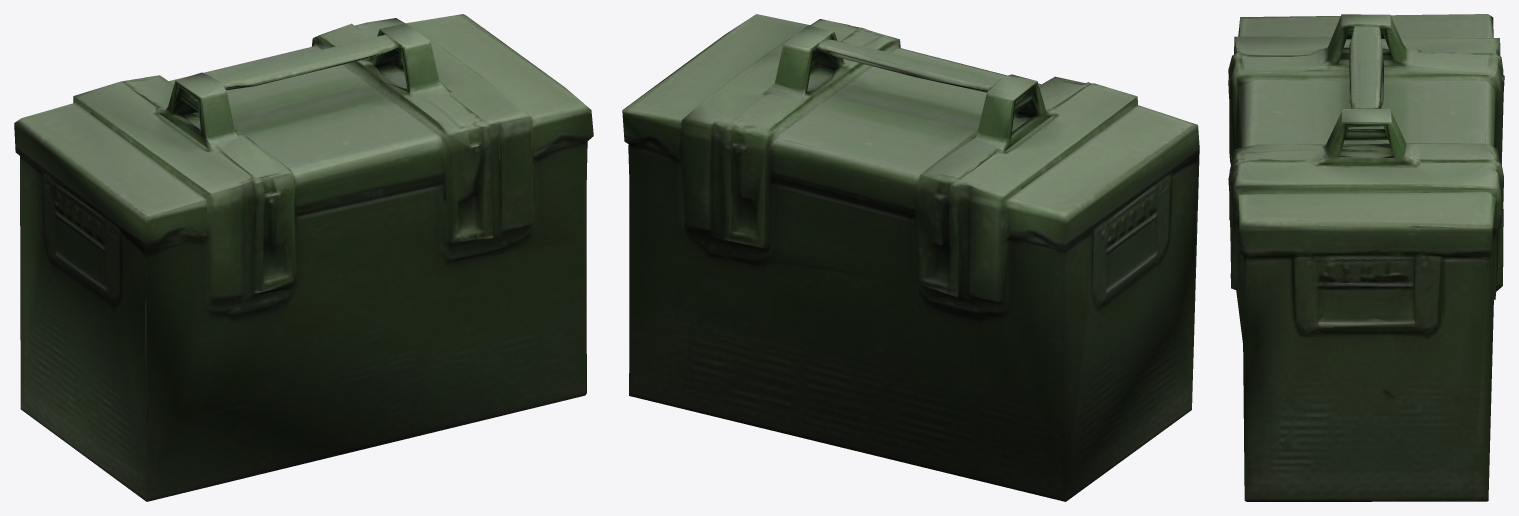
The model's file is ammo_box.glb.
3 renders of one model, left to right at view 1: azimuth 30°, elevation 25°; view 2: azimuth 150°, elevation 25°; view 3: azimuth 270°, elevation 25°, orthographic. The views are drawn at different scales.
Parts seen in each view (by area): view 1: ammo_box; view 2: ammo_box; view 3: ammo_box.
Boxes of the visible parts, x1,y1,x2,y2 form: ammo_box: (14,14,593,501); ammo_box: (622,14,1199,501); ammo_box: (1228,14,1504,501).
Size of the model in its own units: 0.9941 by 0.7295 by 0.5473.
1 material, 1 textured.
